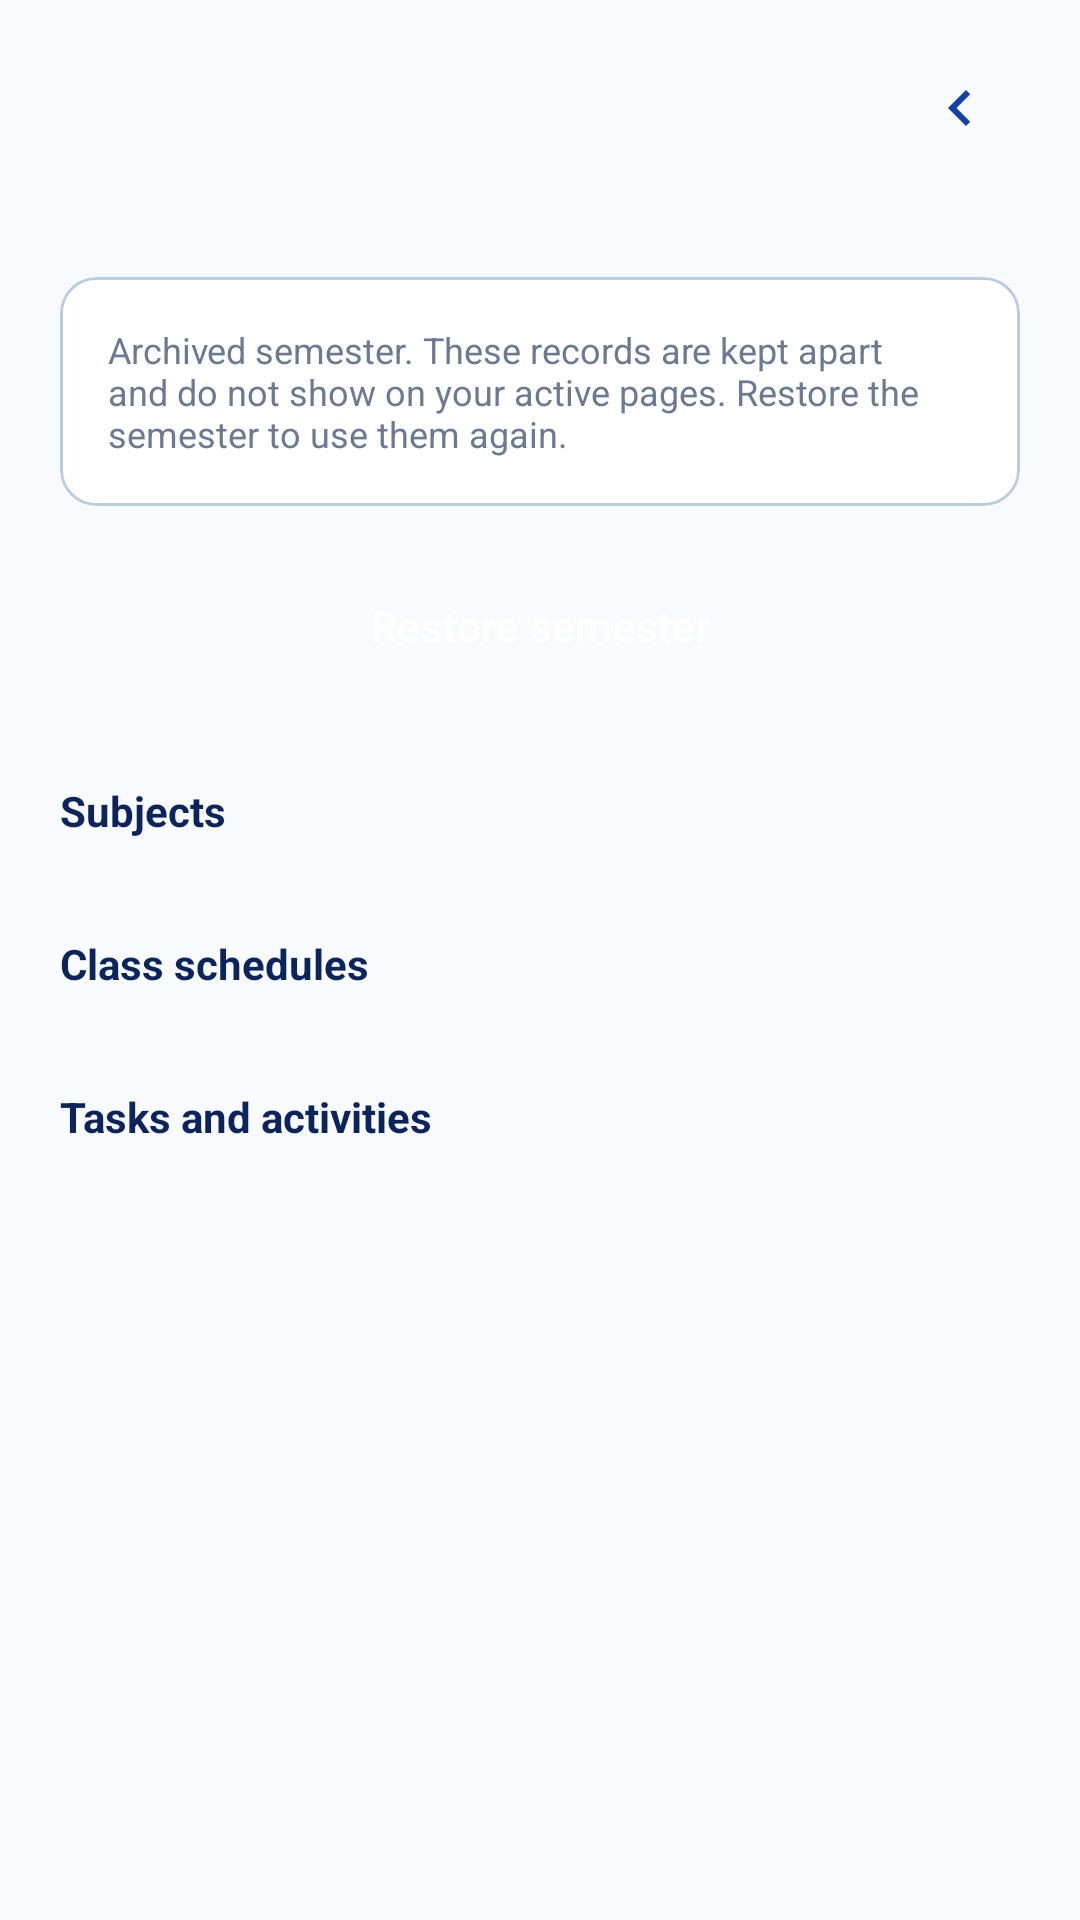

Locate icon controls on the screen. Image size 1080 x 1920, boxes as bbox(x1, y1, x2, y2).
Back to Archived Semesters: bbox(948, 90, 970, 126)
